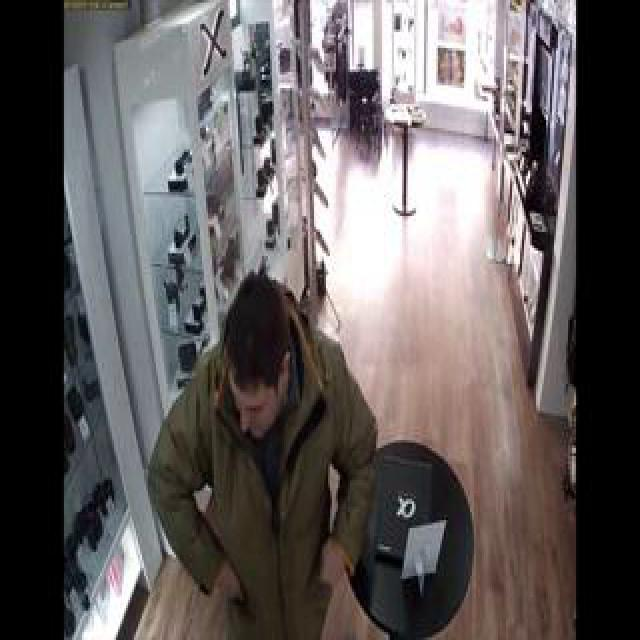shoplifting: (142, 21, 441, 640)
